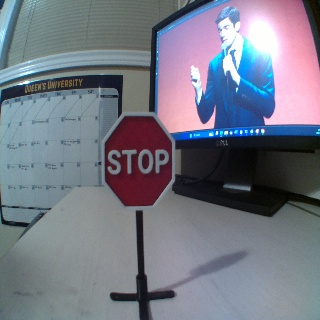sign_stop: (102, 113, 174, 204)
